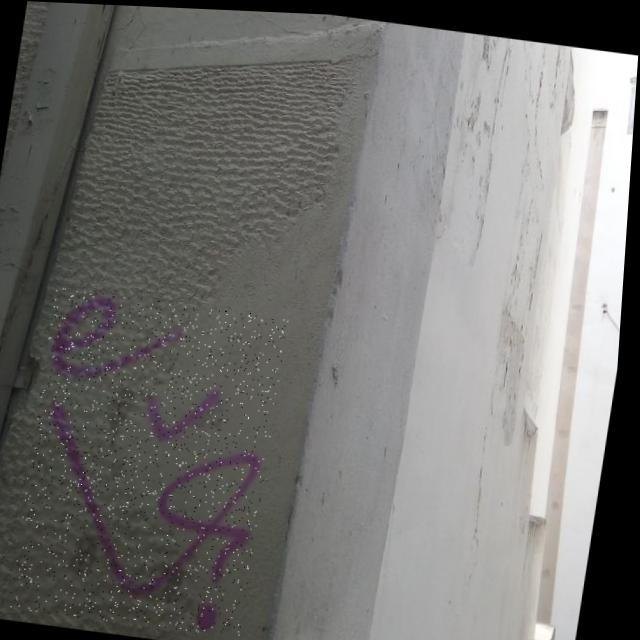-: (14, 285, 293, 636)
